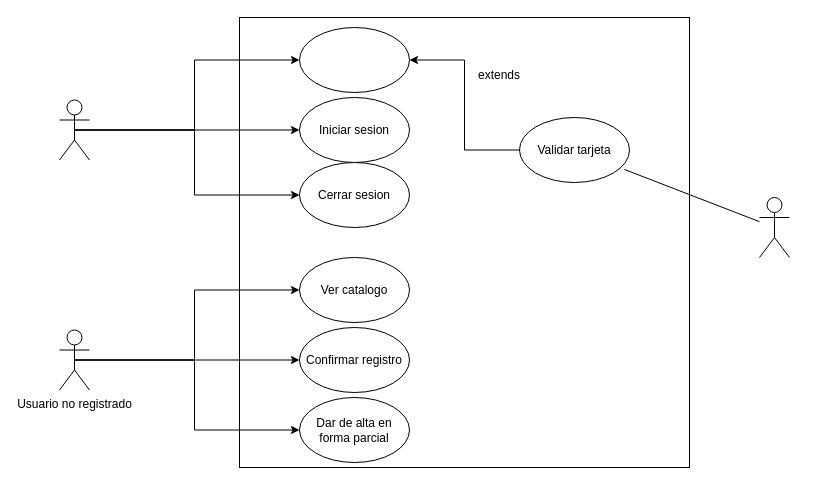
Image size: 840x485. Some labels were removed from this diagram. Each missing label, with the box of its shape:
Comprar libro: (298, 26, 410, 92)
Sistema de tarjeta: (758, 196, 790, 258)
Usuario registrado: (58, 99, 90, 160)
